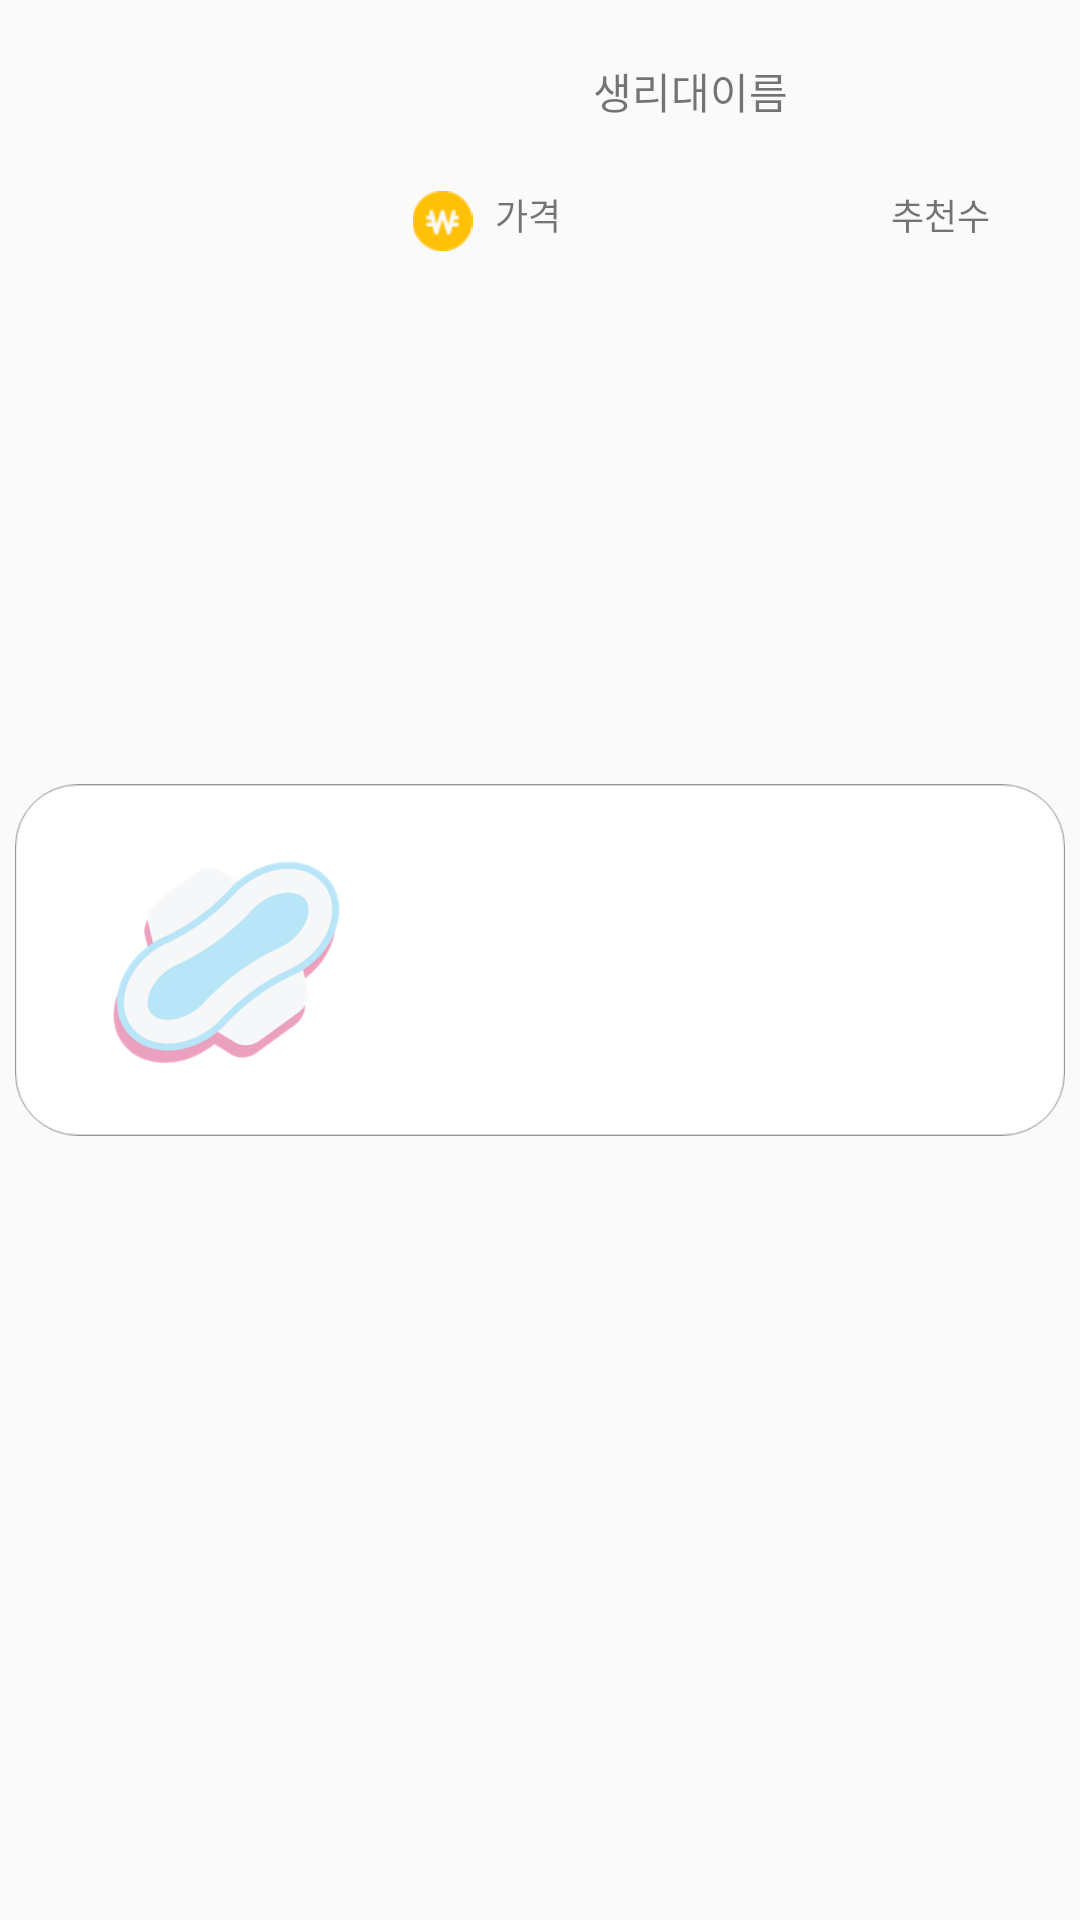

Screen size 1080w x 1920h. Icon name, then its box in pixels as [x1,y1,x2,y2]:
won: [413,191,473,251]
